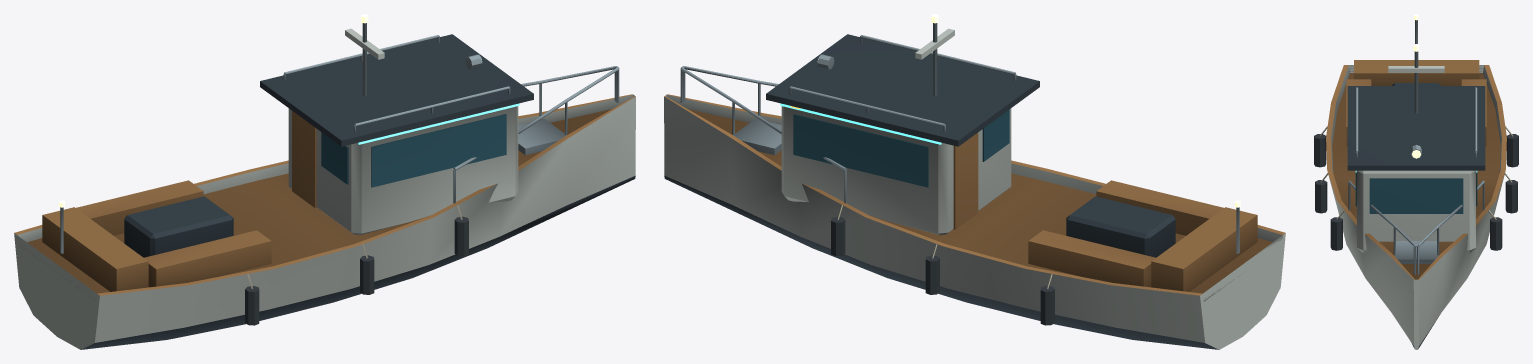
Rendered from harbour-launch.lod1.glb.
3 views of the same model, side by side, from view 1: azimuth 30°, elevation 25°; view 2: azimuth 150°, elevation 25°; view 3: azimuth 270°, elevation 25° (orthographic). The views are drawn at different scales.
Visible parts, largest first — view 1: structure; view 2: structure; view 3: structure.
Part boxes in pixels (<box>): structure: <box>14,14,635,349</box>; structure: <box>664,14,1285,349</box>; structure: <box>1314,14,1518,349</box>.
Bounding box in the file's own units: 9 × 3.84 × 3.27.
